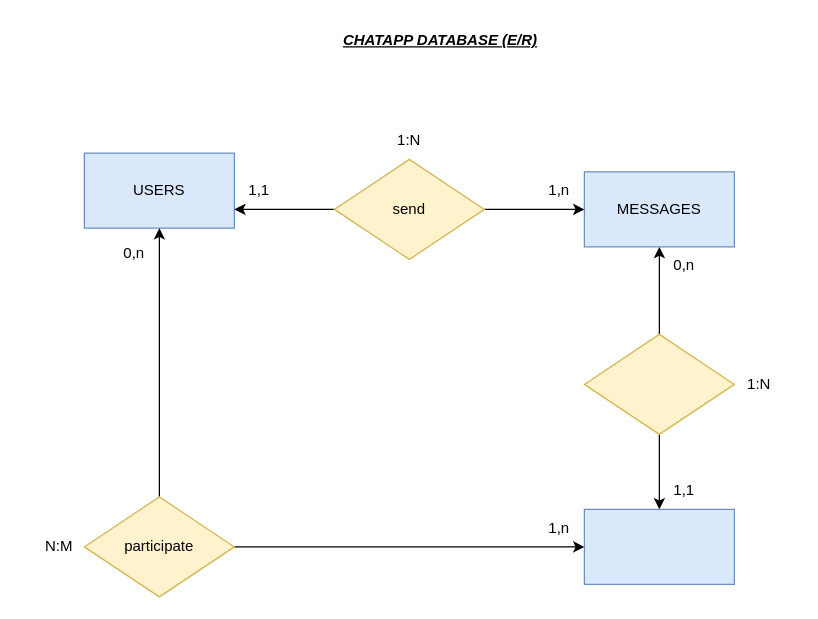
Image size: 818x619. Some labels were removed from this diagram. Each missing label, with the centre of its shape:
"CHAT" belongs at pixel 658 546.
"display" belongs at pixel 658 383.
